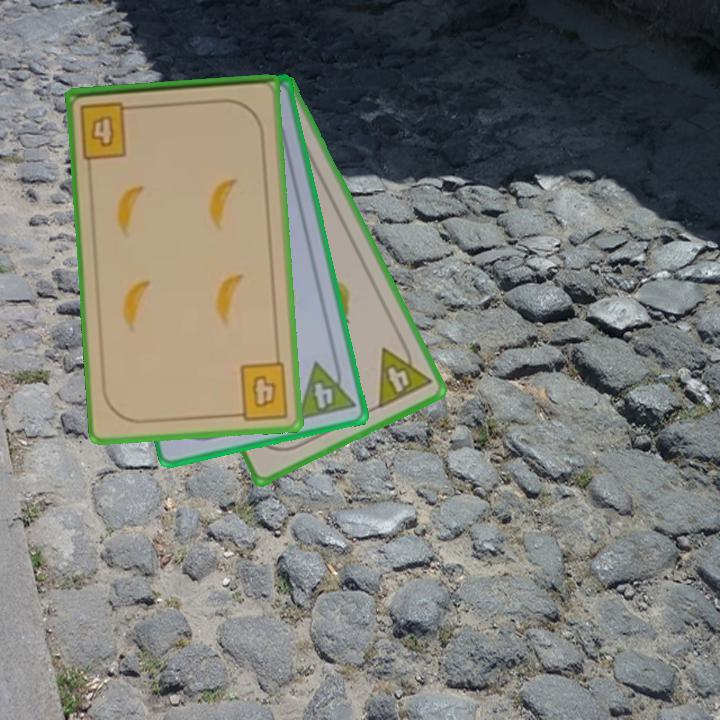4b: (76, 98, 140, 161), (229, 359, 291, 423)
4p: (374, 335, 435, 412), (294, 354, 358, 423)
